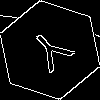Y: (25, 25, 82, 82)
